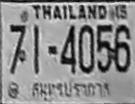0: (78, 25, 94, 73)
1: (33, 25, 40, 75)
4: (60, 24, 75, 72)
5: (96, 23, 112, 73)
6: (112, 25, 130, 72)
7: (8, 24, 26, 73)
SPK: (27, 77, 112, 101)
